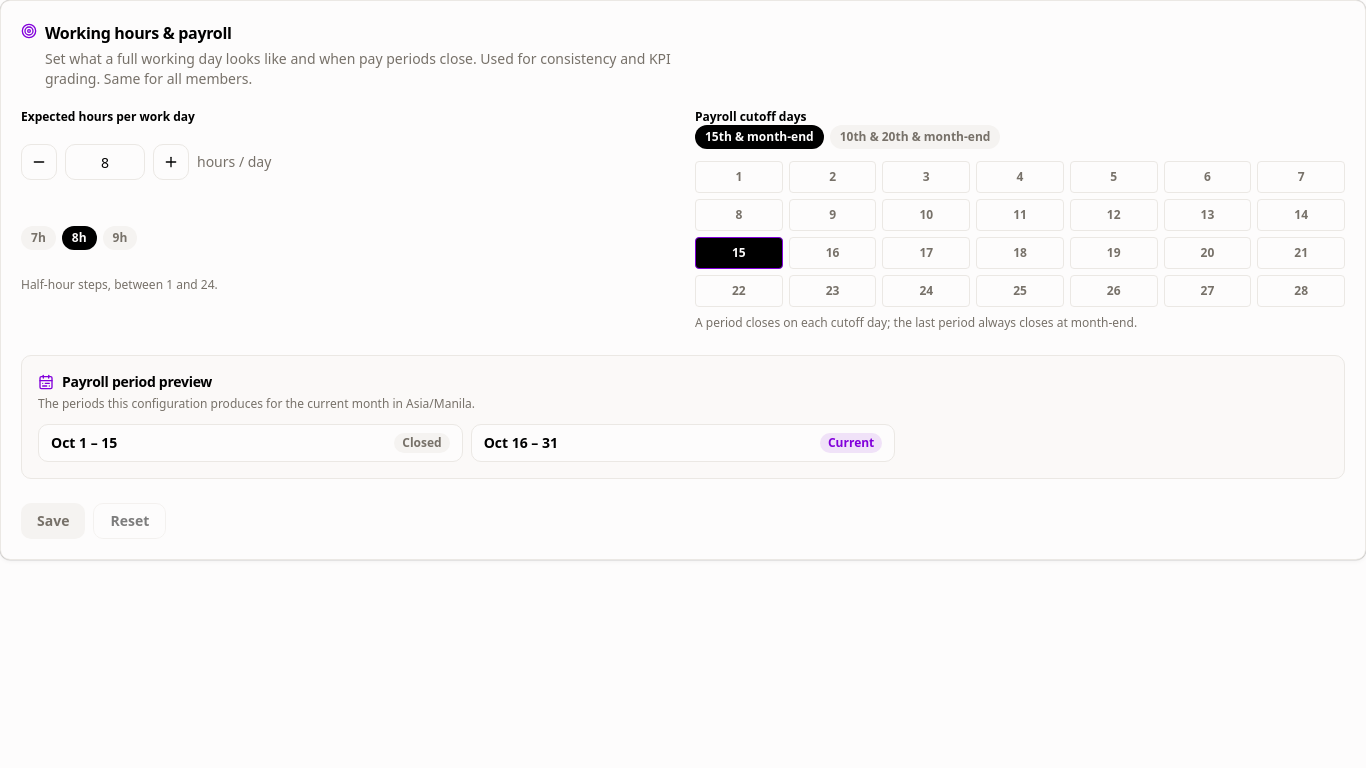
Test case: TrackingExpectationsPanel › restores workspace defaults via a preset chip
What coordinates should you click on to do the following:
click the button "10"
I would click on:
 (926, 215)
Its box is x1=882 y1=199 x2=970 y2=231.
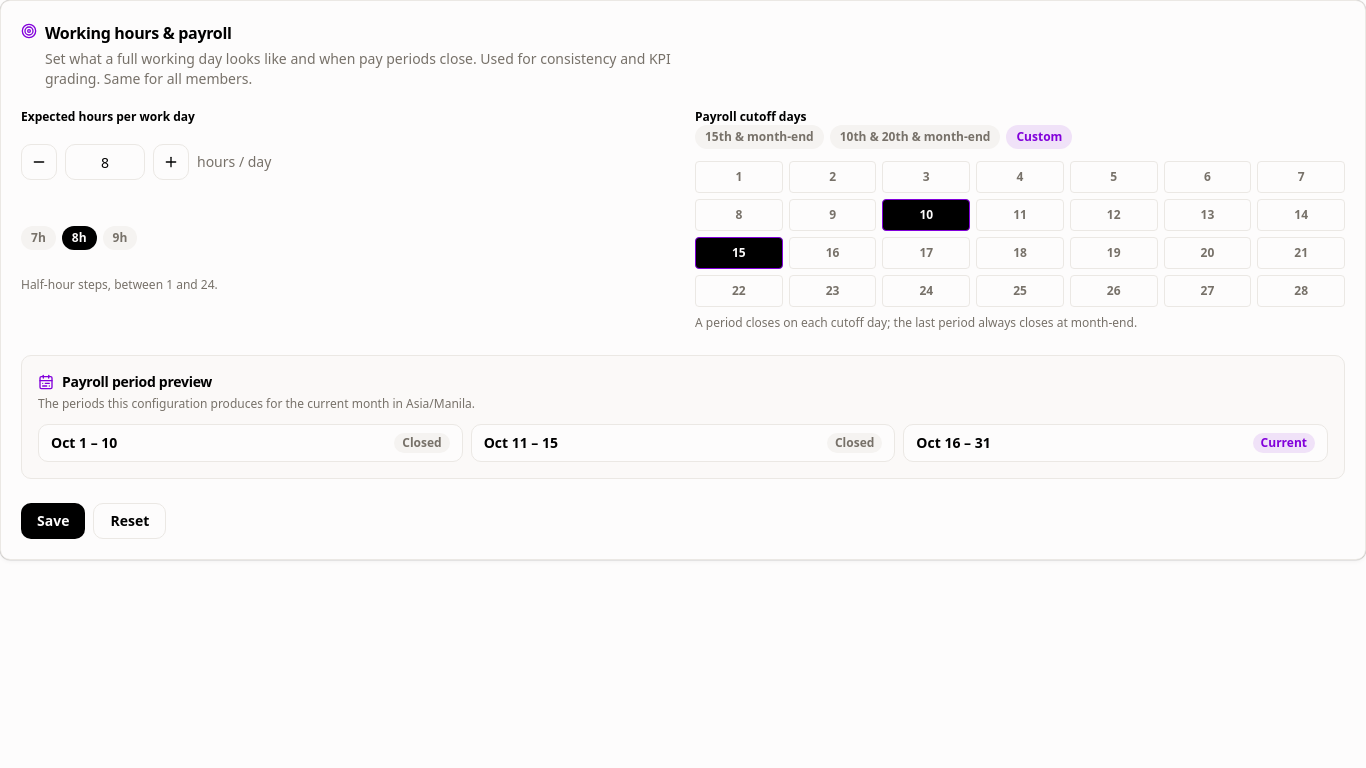
expect the button "Save" is enabled: met, box x1=21 y1=503 x2=85 y2=539
What coordinates should you click on to do the following:
click the button "15th & month-end"
I would click on:
 (759, 137)
Its box is x1=695 y1=125 x2=824 y2=149.
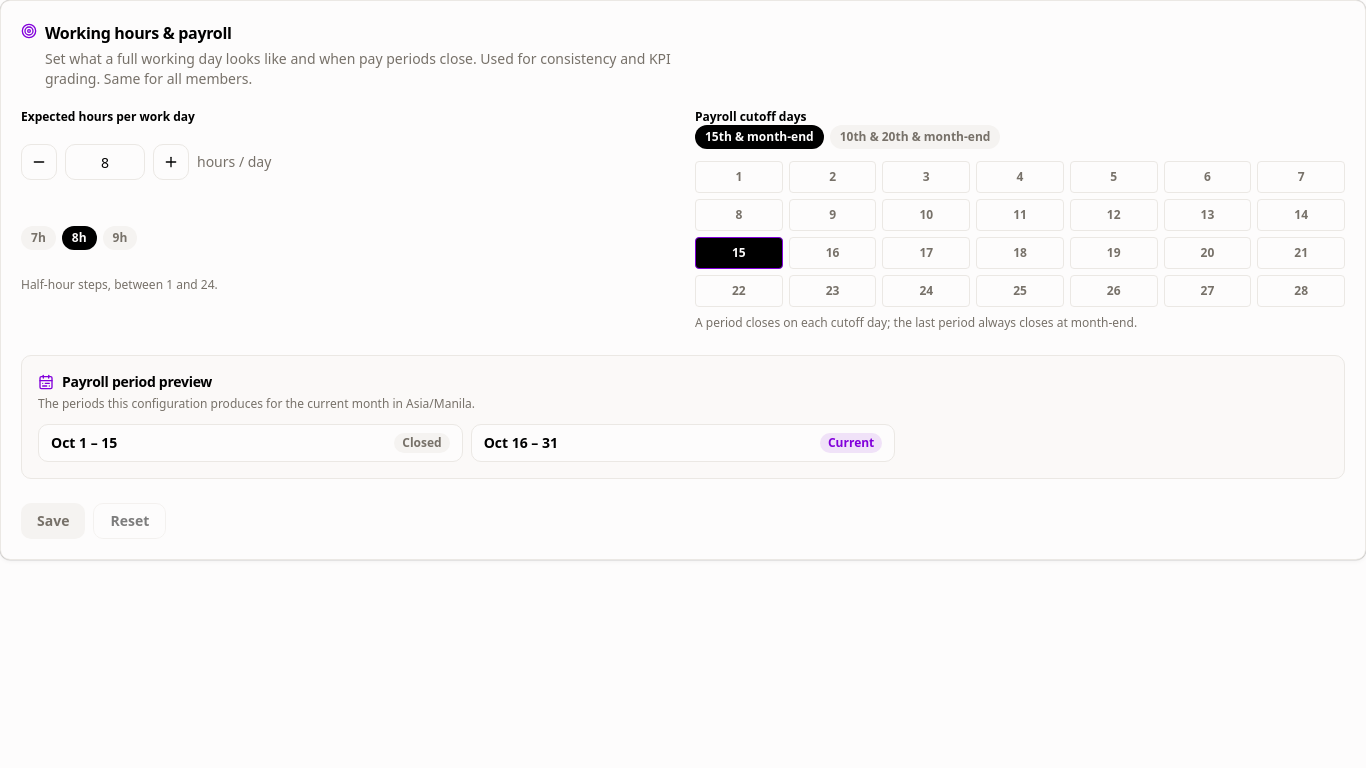
expect the button "Save" is disabled: met, box x1=21 y1=503 x2=85 y2=539
expect the number of list items is 2: met, box x1=38 y1=424 x2=463 y2=462; x1=471 y1=424 x2=895 y2=462
